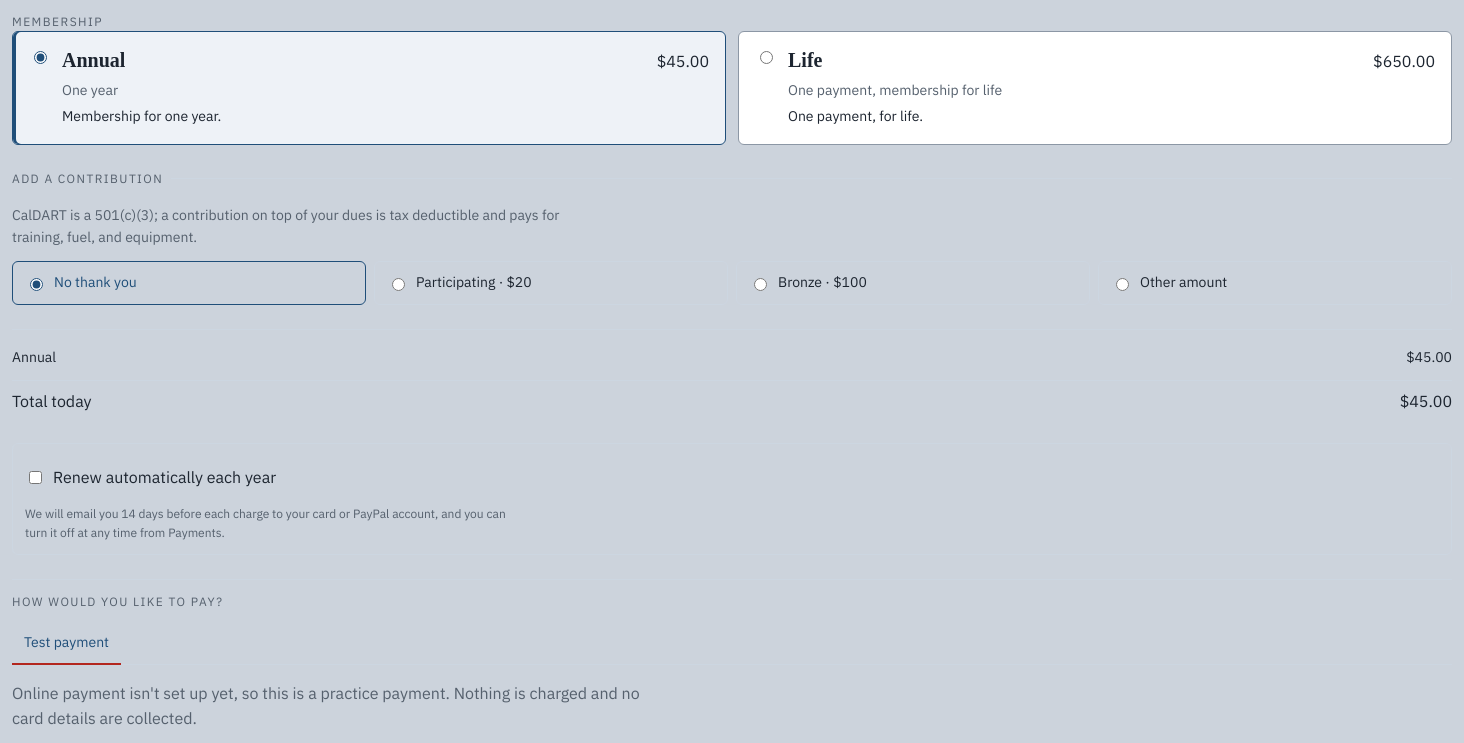
Test case: Checkout › caps a contribution typed above the server's limit
Click the radio button labelled "Other amount" at (1122,284), box [1116,278,1129,290]
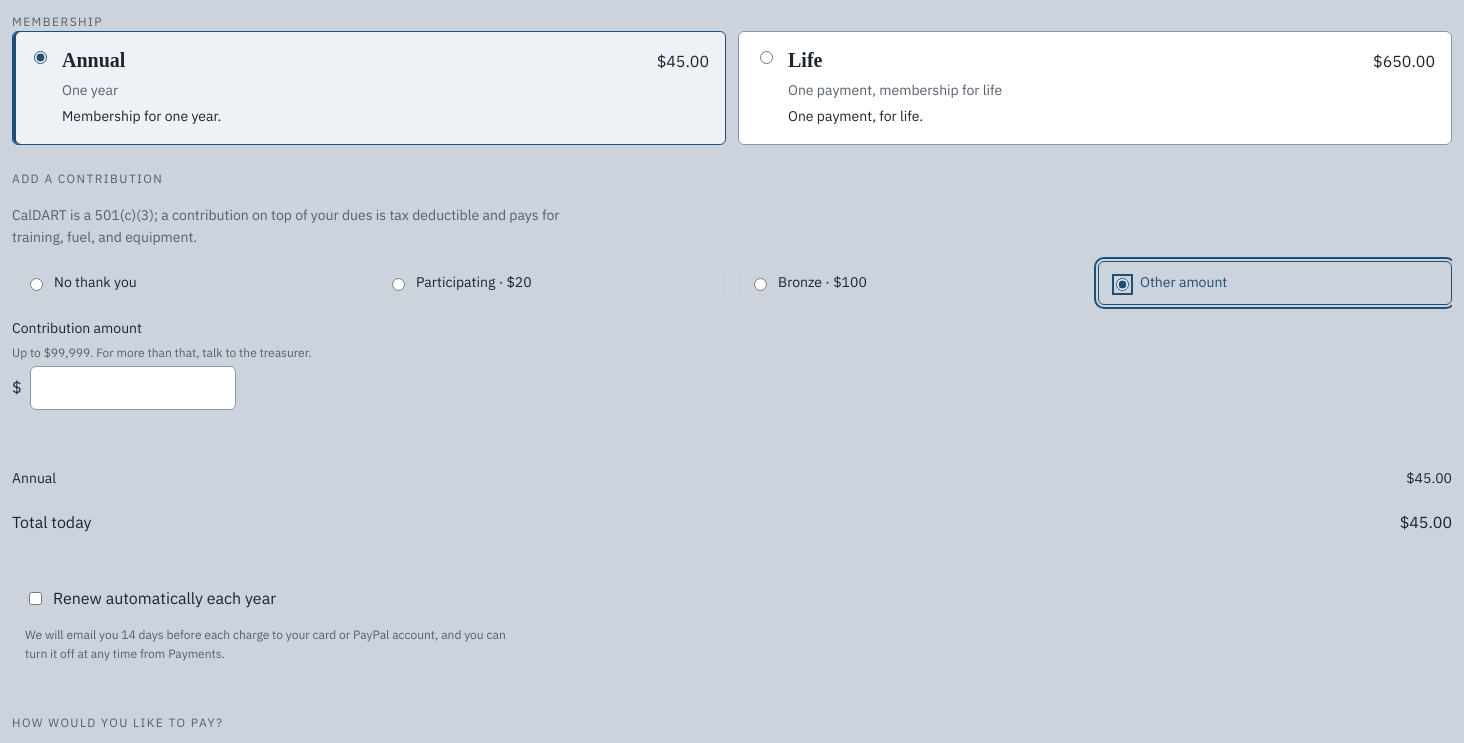
Type "123456789" into the field labelled "Contribution amount" at (133,388), box [30,366,236,410]
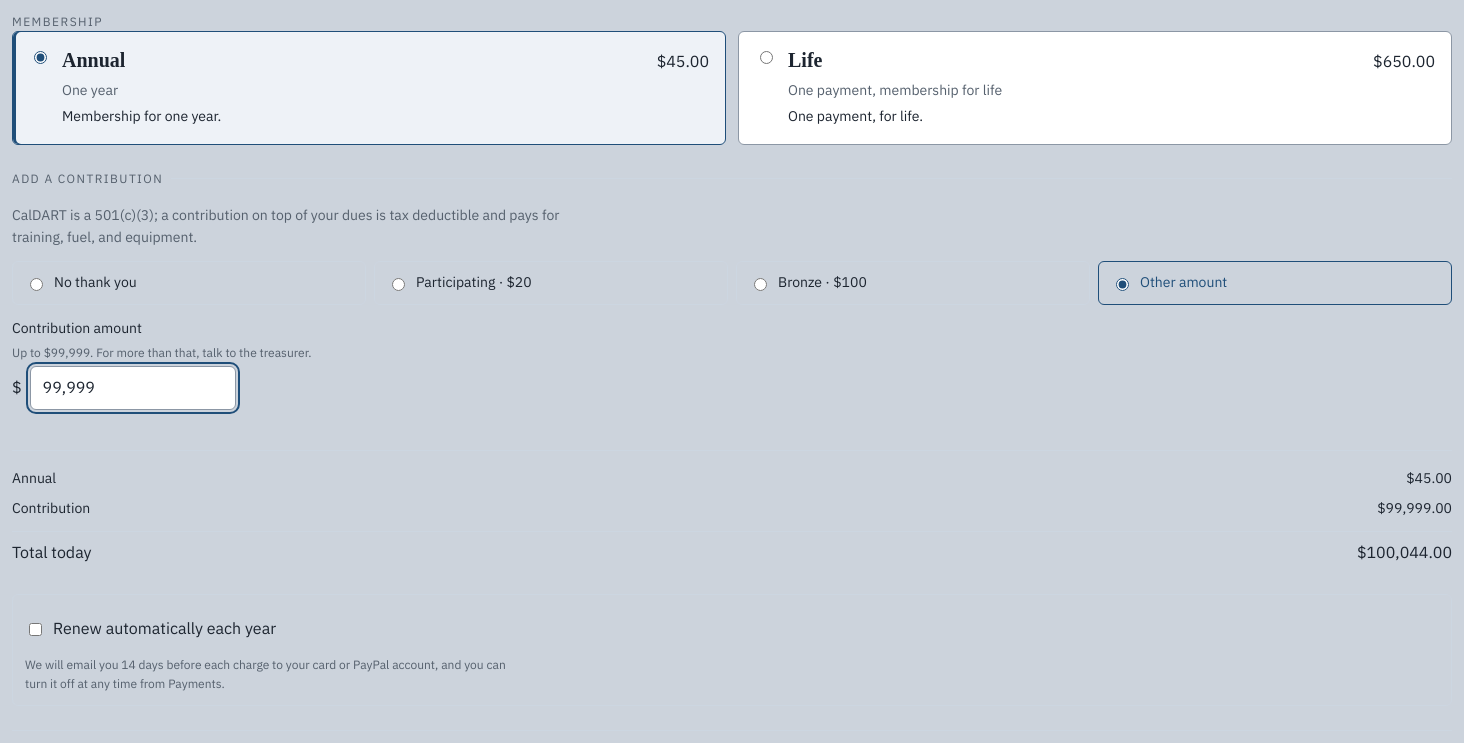
Expected: the field labelled "Contribution amount" holds "99,999", [30,366,236,410]
Expected: the text with test id "checkout-total" reads "$100,044.00", [1357,542,1452,562]
